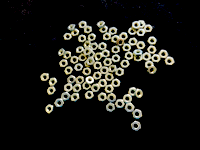nut: (131, 121, 142, 132), (132, 110, 143, 120), (147, 45, 158, 55), (125, 103, 135, 114), (112, 78, 122, 89), (47, 87, 58, 97), (85, 91, 96, 101), (62, 92, 71, 104), (148, 66, 158, 76), (116, 99, 126, 109), (108, 94, 118, 104), (55, 99, 65, 109), (115, 68, 125, 78), (67, 75, 77, 85), (106, 102, 115, 113), (159, 50, 170, 59), (65, 66, 74, 77), (151, 55, 163, 63), (148, 36, 158, 45), (78, 34, 87, 44), (121, 60, 131, 69), (59, 59, 68, 69), (71, 93, 80, 103), (98, 93, 107, 103), (92, 84, 101, 94), (123, 44, 133, 53), (137, 41, 147, 50), (117, 38, 127, 47), (93, 71, 102, 81), (64, 83, 73, 93), (74, 63, 84, 72), (46, 104, 54, 115), (104, 86, 115, 94), (49, 78, 60, 86), (40, 73, 49, 82), (166, 57, 175, 66), (124, 95, 133, 104), (125, 52, 134, 61), (104, 58, 113, 67), (112, 54, 121, 63), (103, 33, 112, 42), (82, 82, 91, 91), (64, 33, 73, 42), (99, 42, 108, 51), (70, 56, 79, 65), (84, 59, 93, 68), (135, 89, 143, 99), (105, 73, 115, 81), (98, 80, 108, 88), (137, 29, 147, 37), (72, 85, 82, 93), (82, 68, 92, 76), (87, 51, 97, 59), (143, 52, 151, 62), (144, 25, 153, 33), (132, 21, 141, 29), (129, 38, 138, 46), (128, 88, 136, 97), (146, 61, 154, 70), (109, 65, 118, 73), (100, 67, 109, 75), (109, 28, 118, 36), (120, 32, 128, 41), (97, 20, 106, 28), (100, 25, 108, 34), (86, 75, 94, 84), (76, 77, 85, 85), (94, 62, 103, 70), (91, 42, 99, 51), (79, 35, 87, 44), (89, 33, 97, 42), (95, 52, 103, 61), (84, 48, 92, 57), (79, 54, 87, 63), (86, 58, 96, 65), (79, 21, 87, 29), (112, 46, 120, 54), (111, 36, 119, 44), (84, 25, 92, 33), (76, 46, 84, 54), (64, 51, 72, 59), (134, 55, 143, 62), (138, 21, 147, 28), (103, 49, 110, 58), (129, 28, 137, 35), (73, 29, 80, 37), (134, 50, 143, 56), (69, 24, 76, 31), (84, 41, 91, 48), (59, 49, 64, 57)
